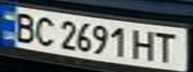1: (109, 25, 130, 58)
2: (54, 17, 78, 52)
6: (72, 20, 93, 54)
9: (90, 22, 112, 56)
B: (6, 10, 39, 43)
C: (30, 14, 57, 47)
H: (130, 28, 160, 62)
T: (151, 29, 184, 64)
